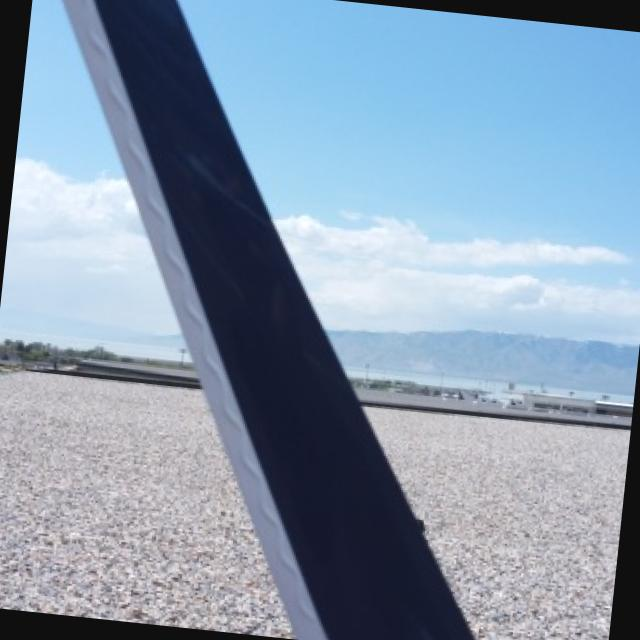healthy: (63, 0, 470, 640)
